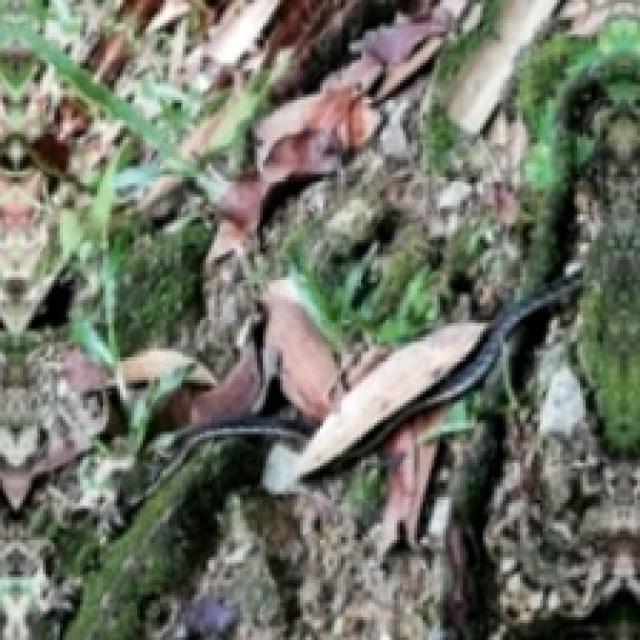king cobra: (302, 272, 580, 478), (159, 418, 310, 484)
